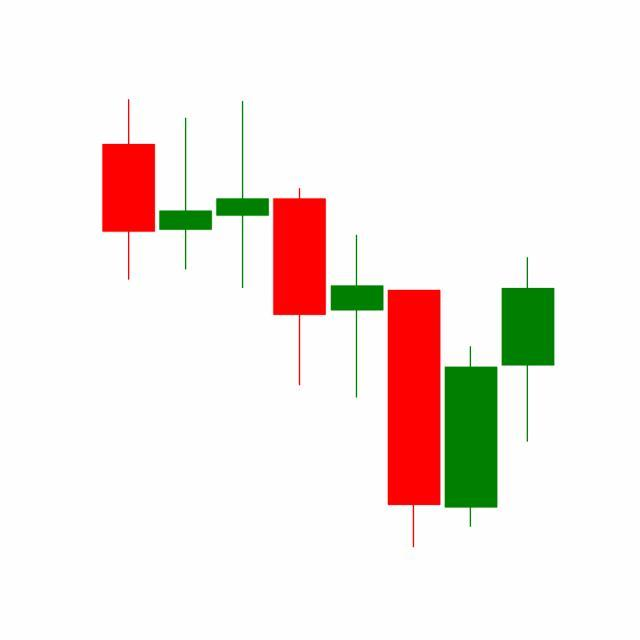Hikkake Pattern: (270, 184, 555, 548)
